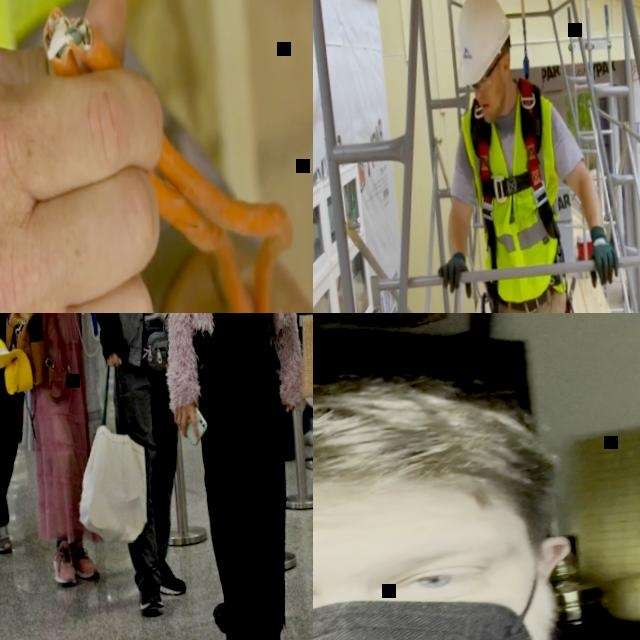Hardhat: (449, 0, 516, 89)
Mask: (313, 557, 566, 640)
NO-Hardhat: (313, 352, 548, 556)
NO-Mask: (481, 87, 508, 124)
NO-Safety Vest: (185, 313, 278, 349)
Person: (313, 331, 640, 640), (0, 0, 313, 313), (410, 0, 639, 313), (143, 313, 313, 640), (73, 313, 225, 625), (8, 313, 122, 581)
Safety Vest: (457, 81, 571, 301)
